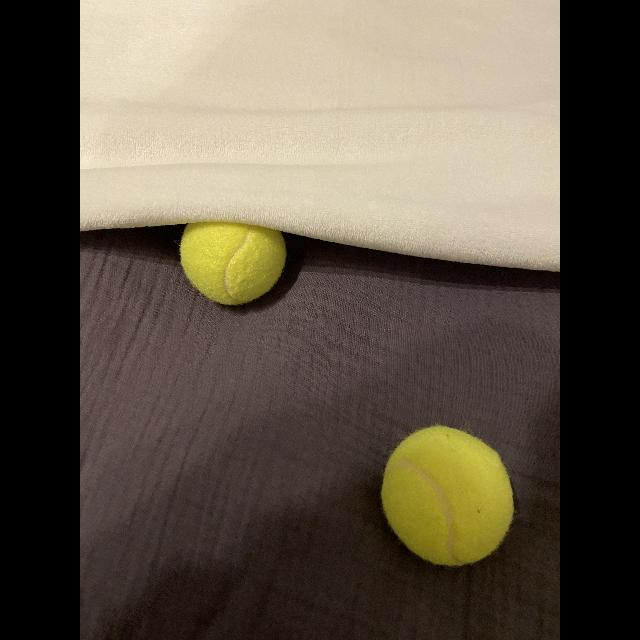Tennisball: (381, 426, 513, 566), (180, 222, 286, 305)
